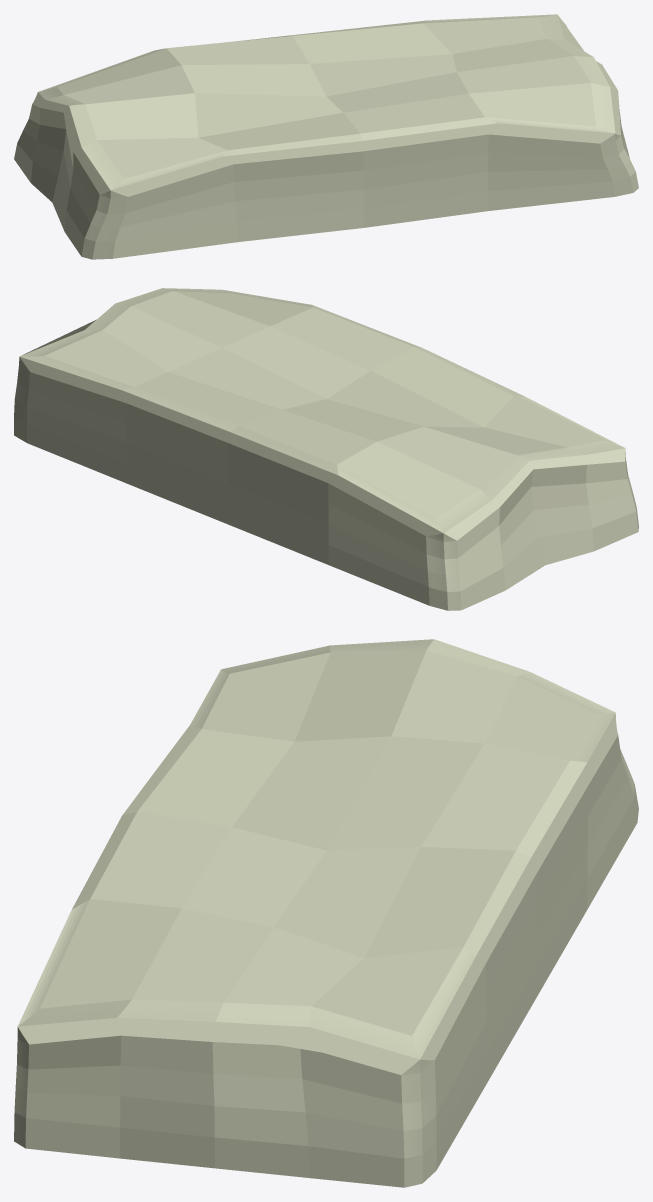
Rendered from pillow 2.glb.
The picture shows the model from 3 angles, top to bottom: view 1: azimuth 30°, elevation 25°; view 2: azimuth 150°, elevation 25°; view 3: azimuth 270°, elevation 25°; orthographic projection. The views are drawn at different scales.
Visible parts, largest first — view 1: Pillow.001; view 2: Pillow.001; view 3: Pillow.001.
Boxes of the visible parts, <box> form: Pillow.001: <box>14,14,638,259</box>; Pillow.001: <box>14,288,638,610</box>; Pillow.001: <box>14,639,638,1187</box>.
Bounding box in the file's own units: 1.07 × 0.1868 × 0.6642.
